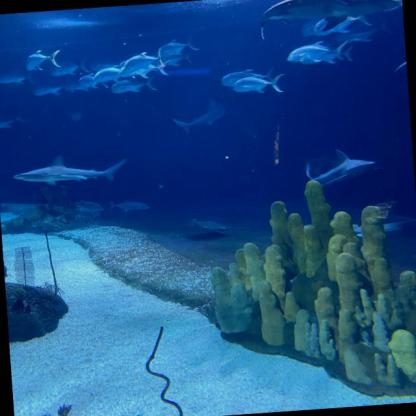fish: (312, 10, 372, 38), (286, 42, 350, 63), (232, 72, 287, 95), (155, 32, 201, 58), (116, 60, 173, 80), (221, 66, 275, 87), (299, 46, 355, 66), (110, 76, 158, 95), (93, 64, 136, 84), (33, 78, 76, 98), (24, 48, 62, 70), (123, 55, 164, 73), (50, 59, 92, 76), (108, 197, 149, 214), (154, 50, 192, 68), (0, 69, 36, 87), (0, 112, 29, 133), (78, 72, 109, 90), (69, 198, 104, 212)
shark: (256, 0, 403, 41), (13, 150, 132, 190), (304, 146, 386, 188), (172, 96, 232, 135), (390, 22, 406, 73)
stingray: (187, 215, 231, 233)
